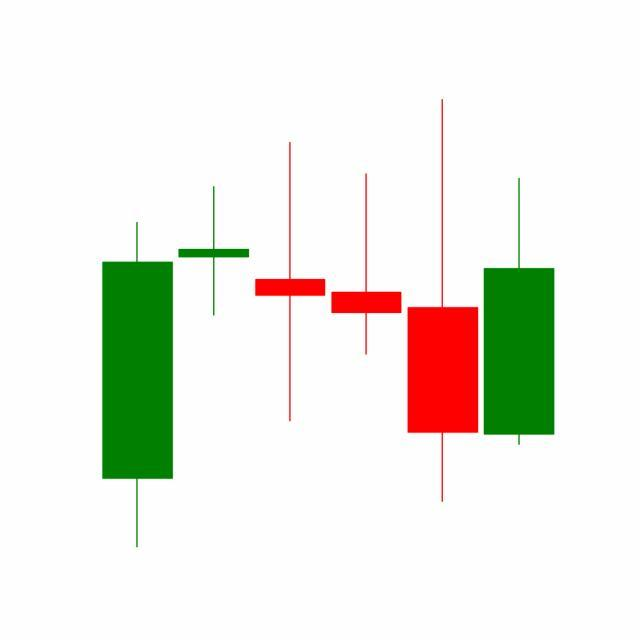Three Line Strike: (251, 99, 555, 507)
